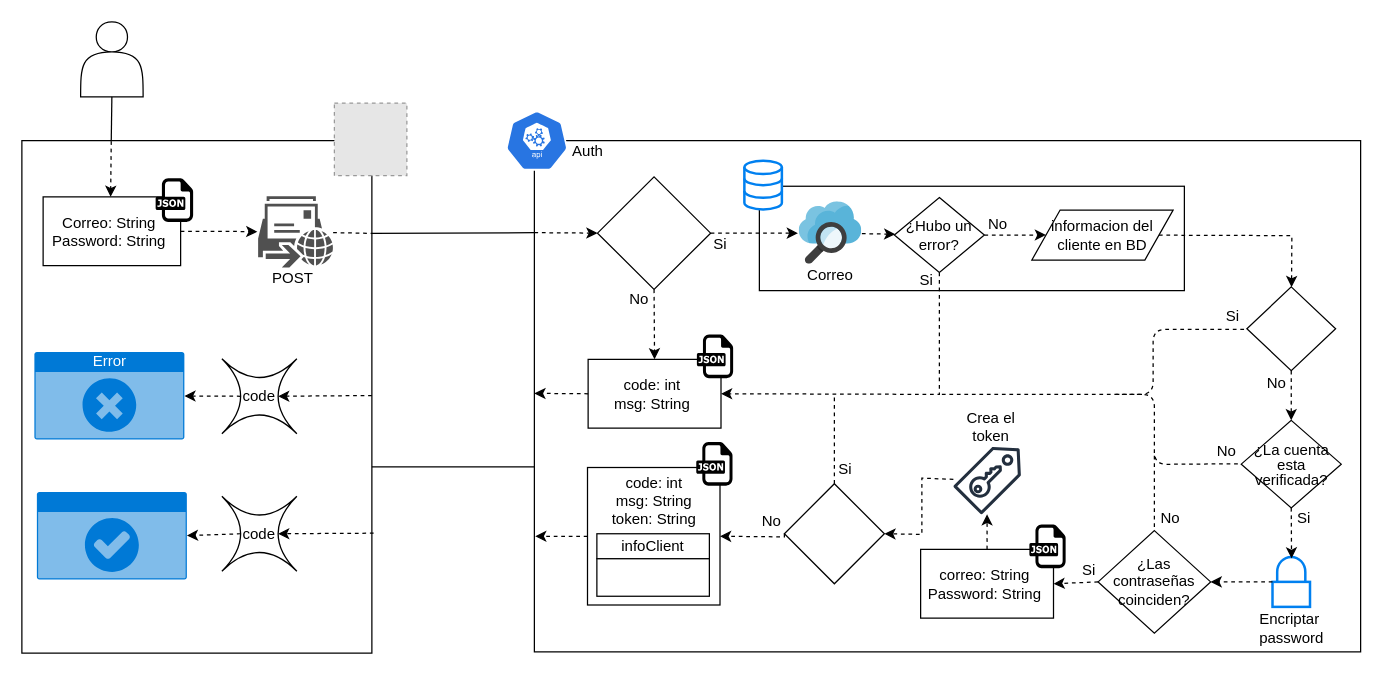
This 1383x675 diagram has some shape labels left out. Grey dashed boxes stand in for pictures. The centre of each missing label's shape, as x and y in pixels:
"nombre: String correo: String" goes at point (652, 577).
"Success" goes at point (111, 535).
"¿Hubo un error con el token?" goes at point (833, 533).
"¿La info es vacia?" goes at point (1291, 328).
"¿Llego la informacion completa?" goes at point (653, 232).
